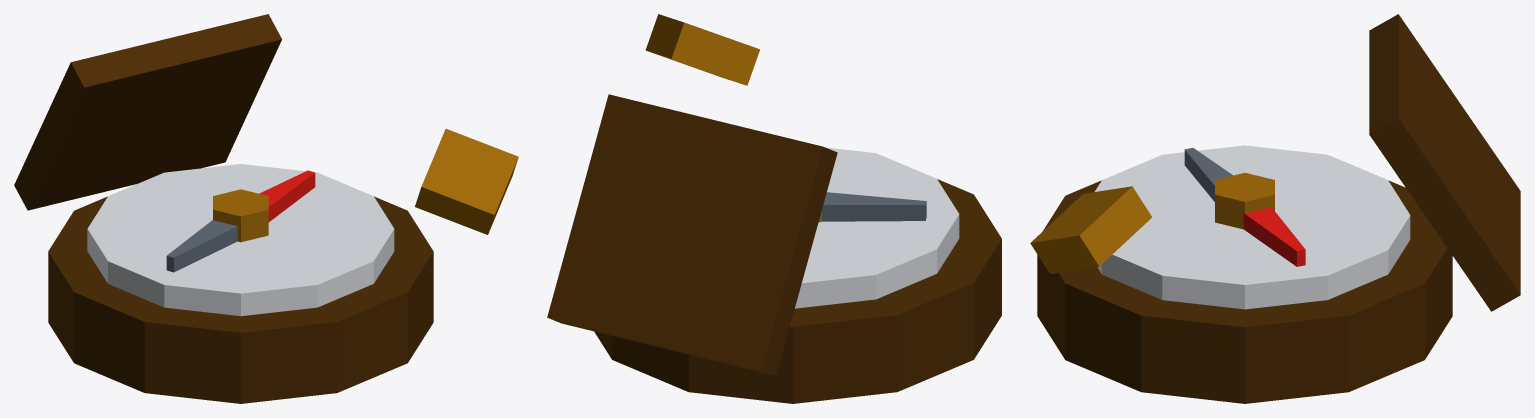
The model's file is CompasSalteado_low.fbx.
3 views of the same model, side by side, from view 1: azimuth 30°, elevation 25°; view 2: azimuth 150°, elevation 25°; view 3: azimuth 270°, elevation 25° (orthographic). The views are drawn at different scales.
Parts seen in each view (by area): view 1: CompasSalteado_low; view 2: CompasSalteado_low; view 3: CompasSalteado_low.
Boxes of the visible parts, <box> form: CompasSalteado_low: <box>14,14,518,403</box>; CompasSalteado_low: <box>547,14,1001,403</box>; CompasSalteado_low: <box>1030,14,1520,403</box>.
Size of the model in its own units: 59.96 by 35.91 by 63.8.
